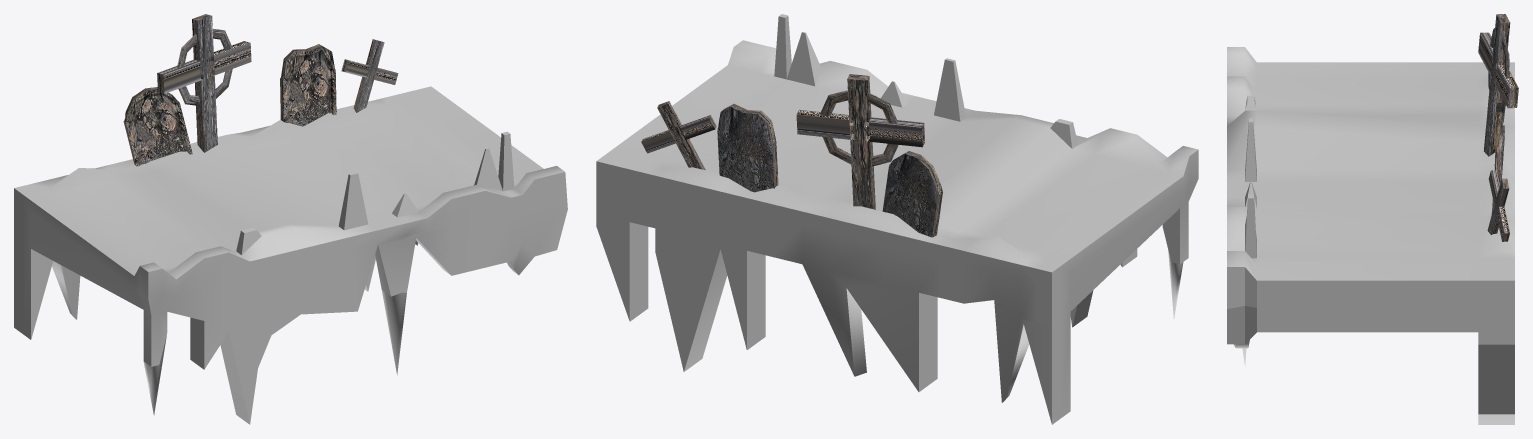
Rendered from medium.fbx.
3 renders of one model, left to right at view 1: azimuth 30°, elevation 25°; view 2: azimuth 150°, elevation 25°; view 3: azimuth 270°, elevation 25°, orthographic. The views are drawn at different scales.
Parts seen in each view (by area): view 1: polySurface197; view 2: polySurface197; view 3: polySurface197.
Boxes of the visible parts, bbox=[...] form: polySurface197: bbox=[14, 14, 567, 424]; polySurface197: bbox=[596, 14, 1198, 424]; polySurface197: bbox=[1227, 14, 1518, 424].
Size of the model in its own units: 215 by 149 by 121.
